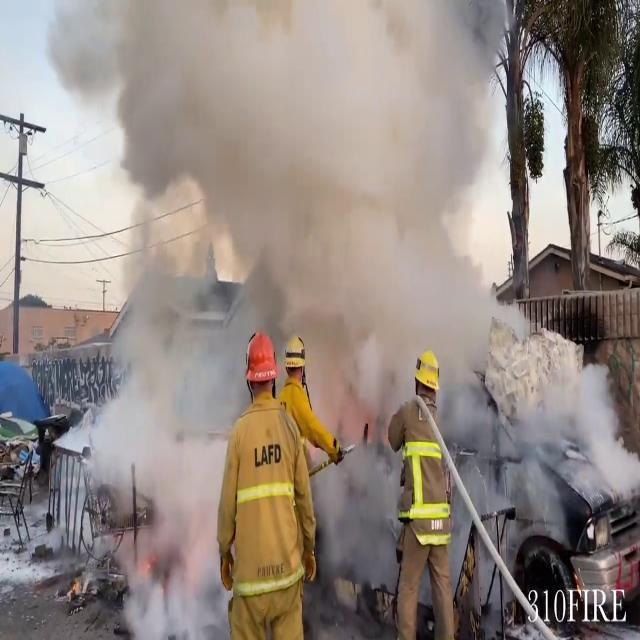Smoke: (73, 0, 541, 620)
